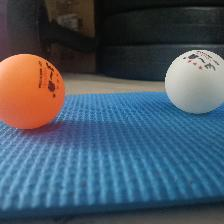WhiteBall: (164, 49, 223, 113)
YellowBall: (0, 54, 64, 128)
